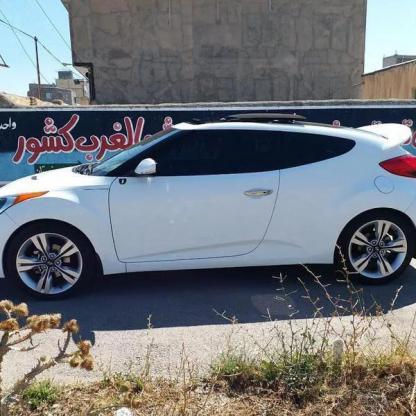Car: (0, 107, 416, 317)
